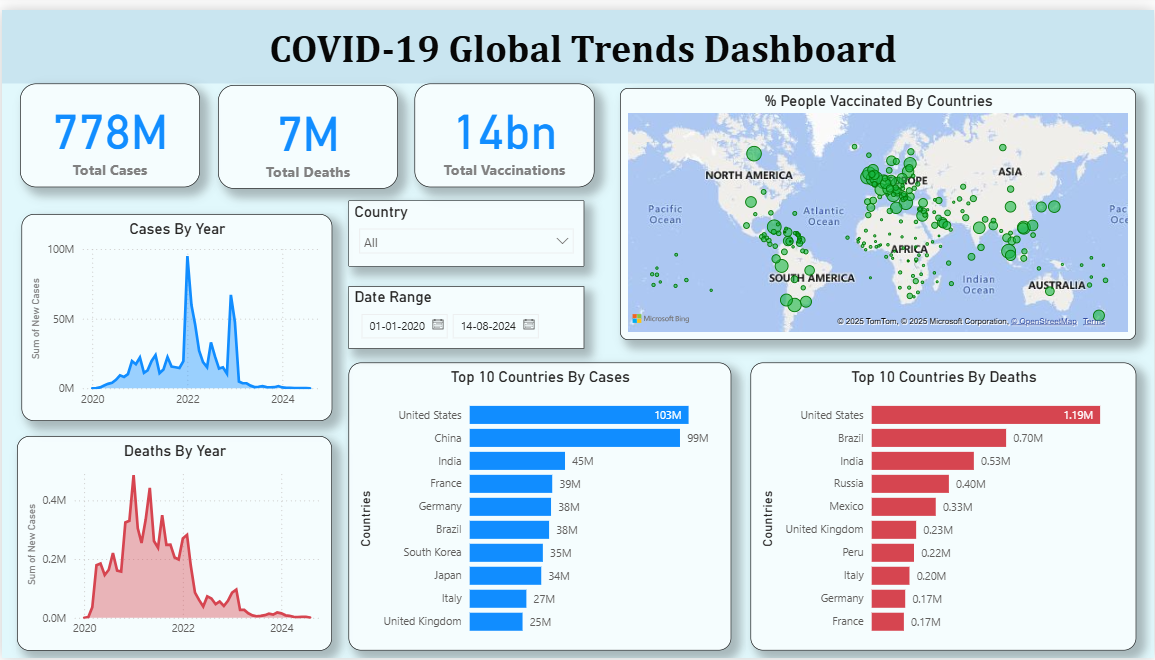

What the dashboard file says about the page in this screenshot:
{"tool":"powerbi","page":{"name":"Page 1","canvas":[1280,720],"ordinal":0},"visuals":[{"type":"shape","title":"COVID-19 Global Trends Dashboard","box":[0,0,1280,81.7],"z":0},{"type":"textbox","box":[220,11.7,851.7,70],"z":1000},{"type":"card","fields":{"Values":["covid-data.Total Global Cases"]},"box":[20,81.7,200,115],"z":2000},{"type":"card","fields":{"Values":["covid-data.Total Vaccinations"]},"box":[458.3,81.7,200,115],"z":3000},{"type":"card","fields":{"Values":["covid-data.Total Global Deaths"]},"box":[240,83.3,200,115],"z":4000},{"type":"slicer","title":"Country","fields":{"Values":["covid-data.location"]},"box":[385,211.7,261.7,73.3],"z":5000},{"type":"lineChart","title":"Cases By Year","fields":{"Y":["Sum(covid-data.new_cases)"],"Category":["covid-data.date.Variation.Date Hierarchy.Year","covid-data.date.Variation.Date Hierarchy.Month"]},"box":[21.7,226.7,345,230],"z":6000},{"type":"lineChart","title":"Deaths By Year","fields":{"Category":["covid-data.date.Variation.Date Hierarchy.Year","covid-data.date.Variation.Date Hierarchy.Month"],"Y":["Sum(covid-data.new_deaths)"]},"box":[16.7,473.3,350,238.3],"z":7000},{"type":"clusteredBarChart","title":"Top 10 Countries By Cases","fields":{"Y":["covid-data.Total Cases"],"Category":["covid-data.location"]},"box":[385,391.7,425,320],"z":8000},{"type":"clusteredBarChart","title":"Top 10 Countries By Deaths","fields":{"Category":["covid-data.location"],"Y":["covid-data.Total Deaths"]},"box":[831.7,391.7,428.3,320],"z":9000},{"type":"map","title":"% People Vaccinated By Countries","fields":{"Category":["covid-data.location"],"Size":["covid-data.% People Vaccinated"]},"box":[686.7,86.7,573.3,280],"z":10000},{"type":"slicer","title":"Date Range","fields":{"Values":["covid-data.date"]},"box":[385,306.7,261.7,70],"z":11000}]}

Visuals, with their boxes in screenshot pixels (x1, y1, x2, y2), scaled from the page's 1280x720 canvas onto the 1155x660 screenshot:
"COVID-19 Global Trends Dashboard" shape: bbox(0, 0, 1154, 75)
textbox: bbox(199, 11, 967, 75)
card - covid-data.Total Global Cases: bbox(18, 75, 199, 180)
card - covid-data.Total Vaccinations: bbox(414, 75, 594, 180)
card - covid-data.Total Global Deaths: bbox(217, 76, 397, 182)
"Country" slicer: bbox(347, 194, 584, 261)
"Cases By Year" lineChart: bbox(20, 208, 331, 419)
"Deaths By Year" lineChart: bbox(15, 434, 331, 652)
"Top 10 Countries By Cases" clusteredBarChart: bbox(347, 359, 731, 652)
"Top 10 Countries By Deaths" clusteredBarChart: bbox(750, 359, 1137, 652)
"% People Vaccinated By Countries" map: bbox(620, 79, 1137, 336)
"Date Range" slicer: bbox(347, 281, 584, 345)
